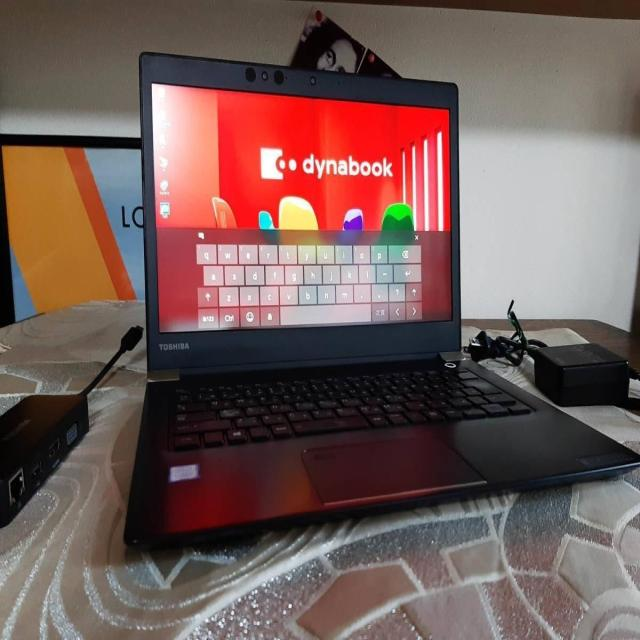keyboard: (125, 359, 640, 542)
